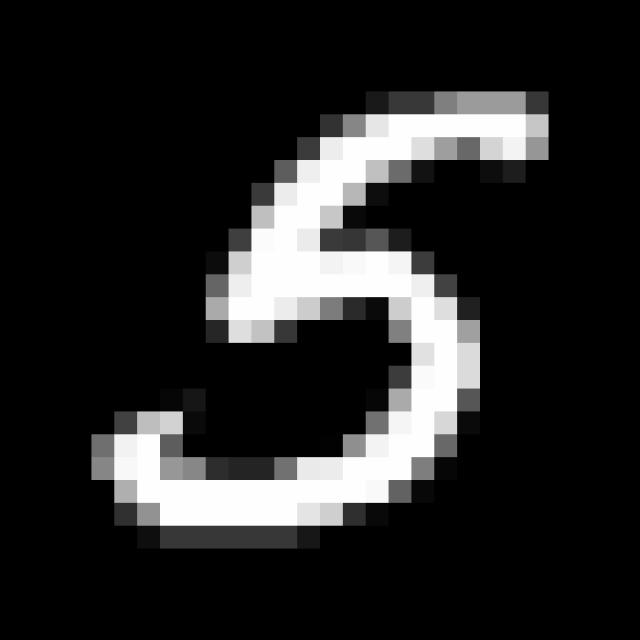five -5-: (87, 89, 556, 534)
